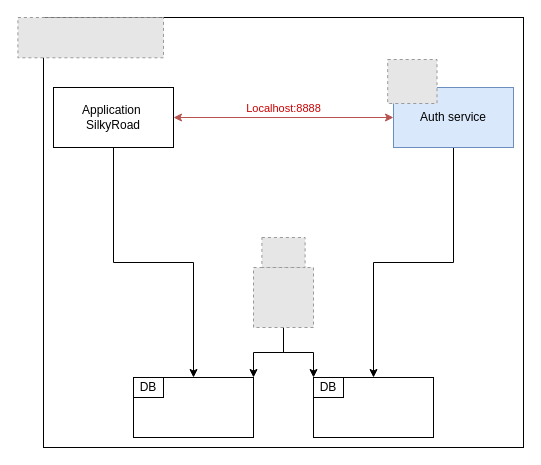
The diagram is 541 pixels wide and 465 high, and some of its shapes have lost their labels. Grey dashed boxes stand in for pictures. Each missing label, with the box of its shape:
AmtAuth: (312, 376, 434, 438)
SilkyRoad: (132, 376, 254, 438)
